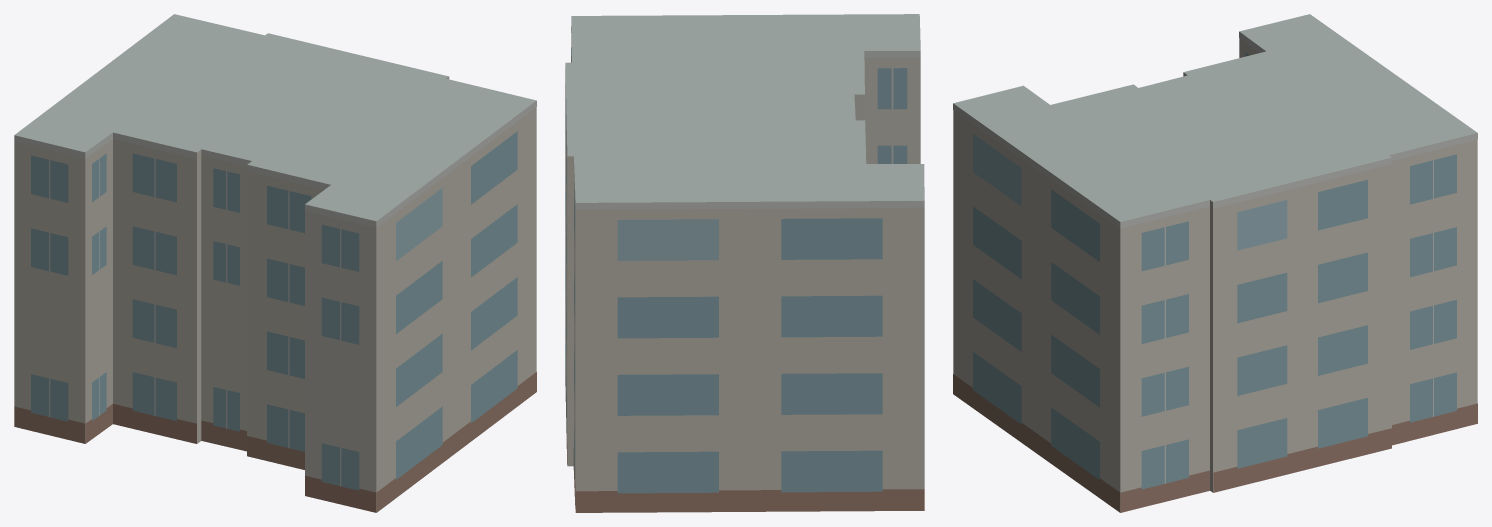
Rendered from survey-upis-32598005.glb.
The picture shows the model from 3 angles, left to right: view 1: azimuth 30°, elevation 25°; view 2: azimuth 150°, elevation 25°; view 3: azimuth 270°, elevation 25°; orthographic projection. The views are drawn at different scales.
Visible parts, largest first — view 1: survey-upis-32598005.tmp; view 2: survey-upis-32598005.tmp; view 3: survey-upis-32598005.tmp.
Boxes of the visible parts, x1,y1,x2,y2 form: survey-upis-32598005.tmp: [14, 14, 536, 512]; survey-upis-32598005.tmp: [565, 14, 924, 512]; survey-upis-32598005.tmp: [953, 14, 1477, 512].
Size of the model in its own units: 16.73 by 10.9 by 17.83.
